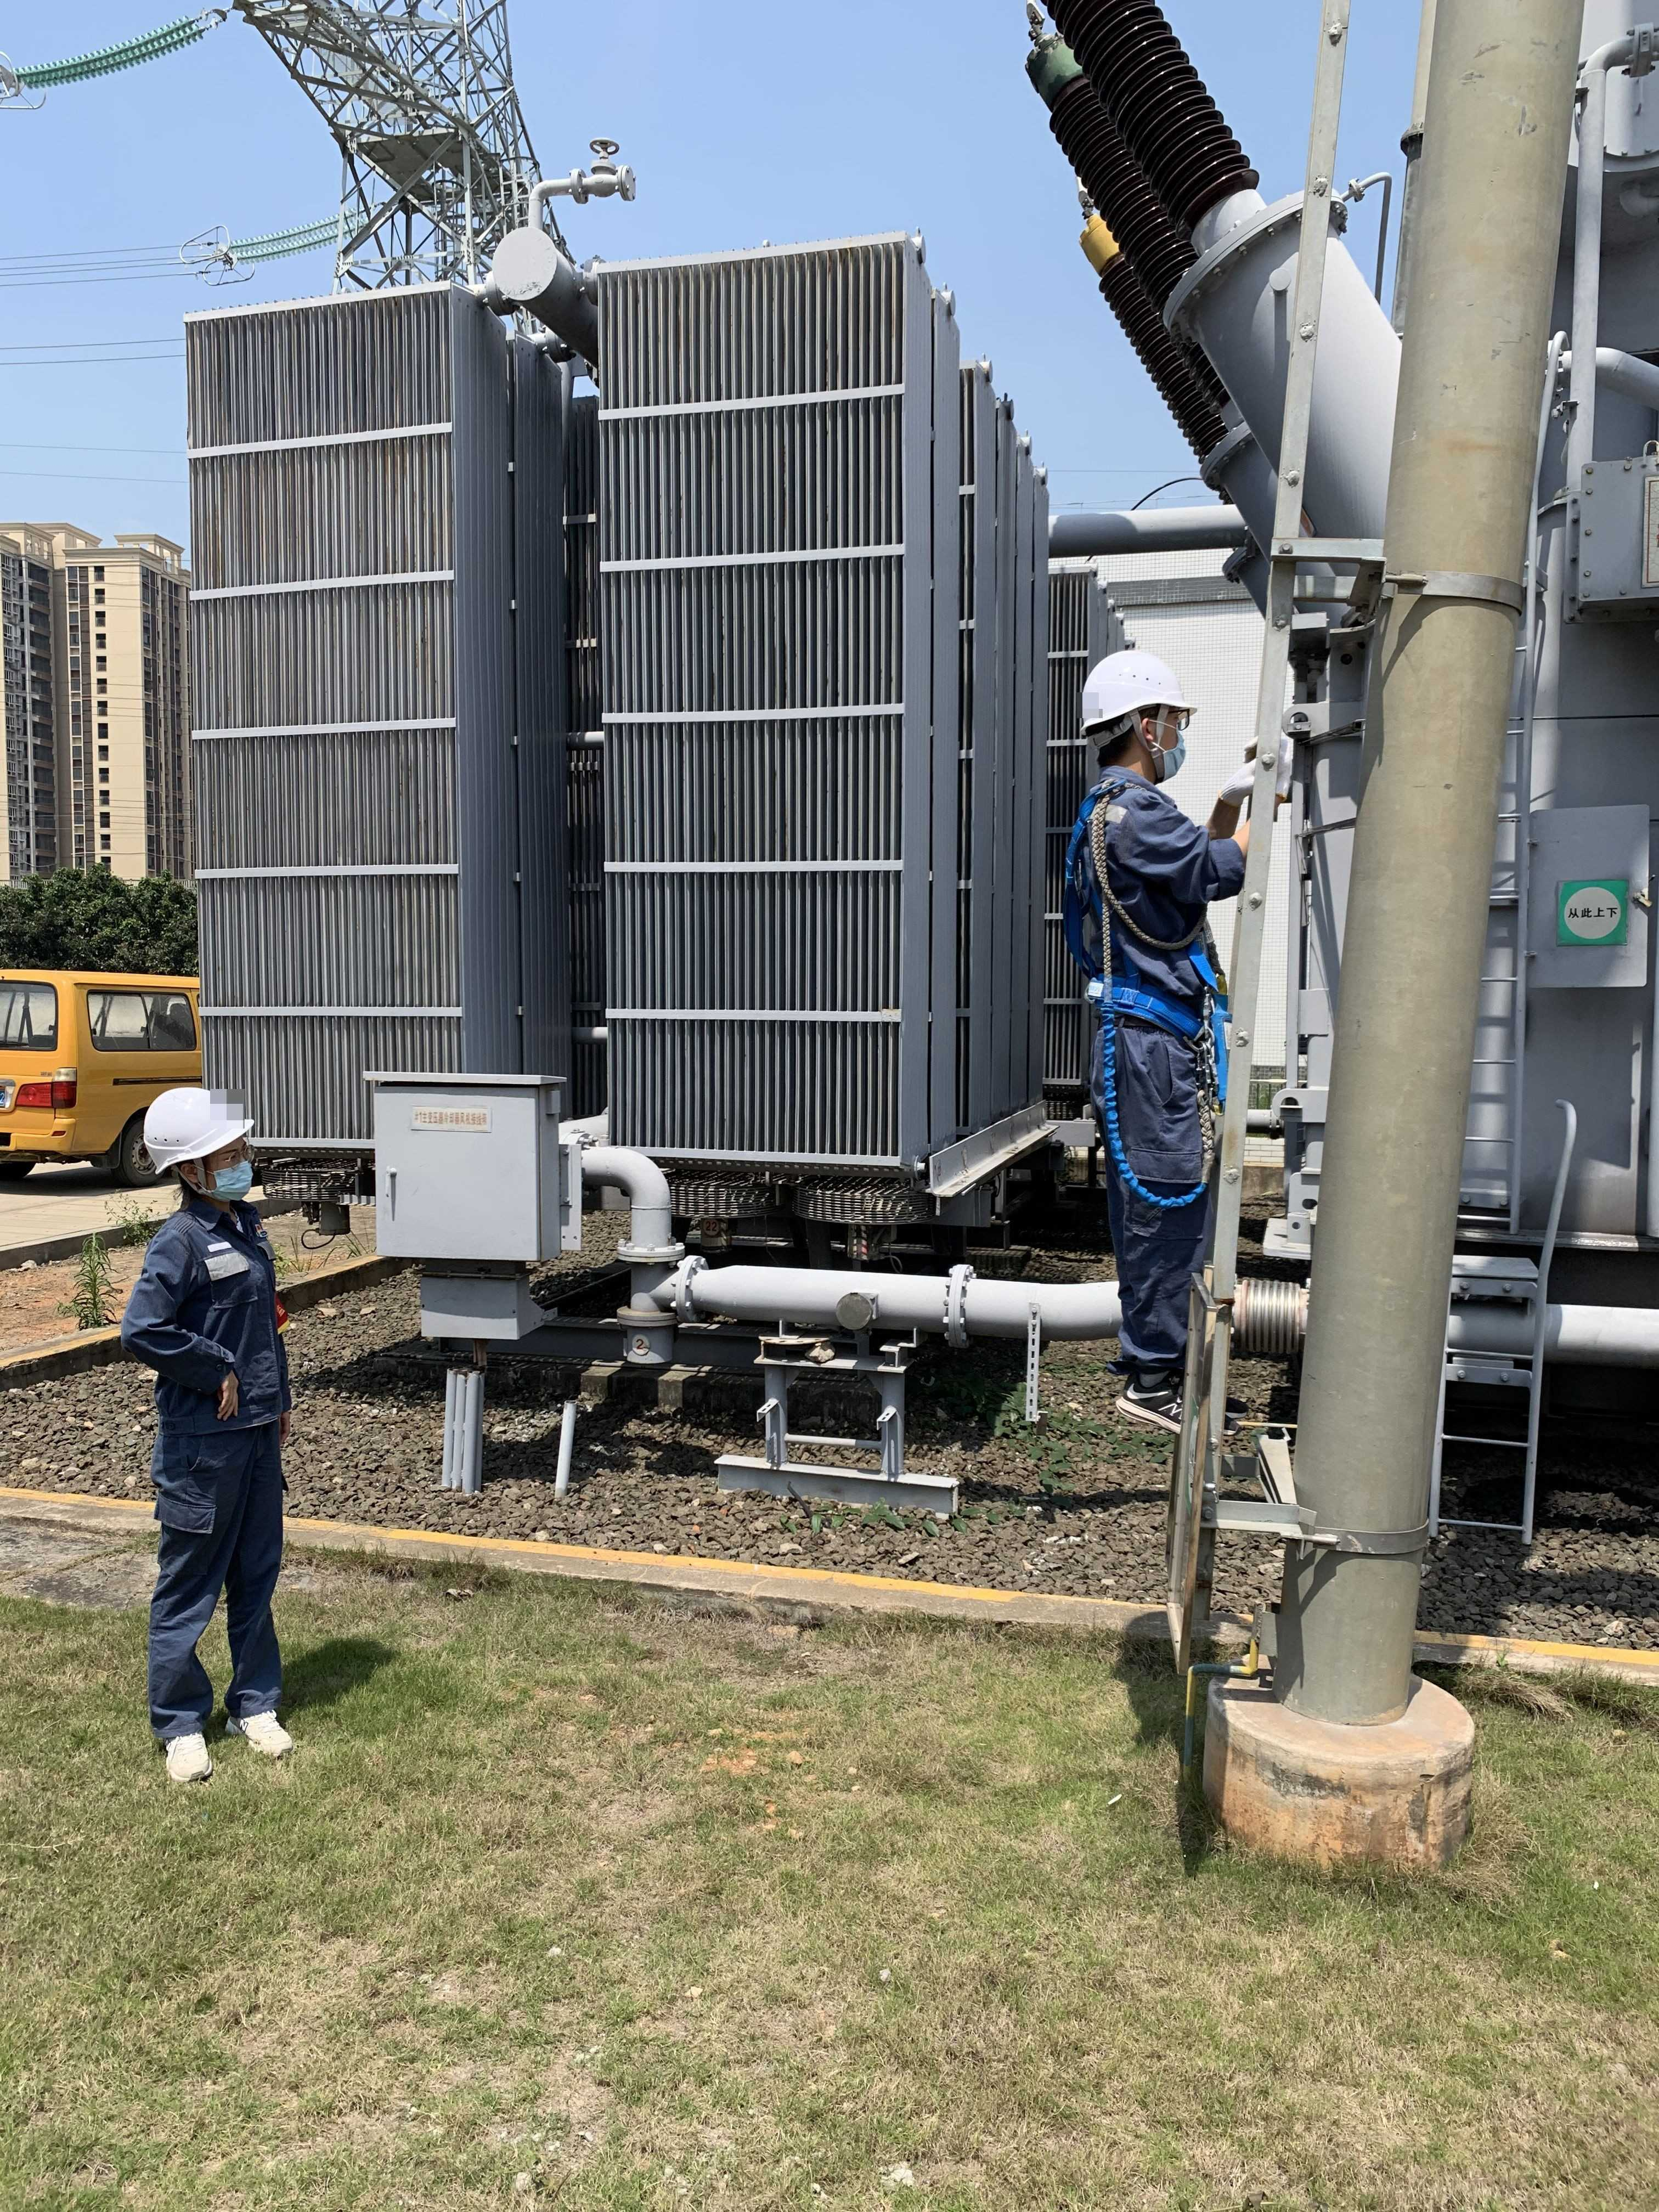downsuit: (136, 1446, 296, 1723), (1098, 1026, 1220, 1378)
upsuit: (117, 1202, 301, 1426), (1068, 777, 1236, 1012)
wrongtop: (1206, 805, 1253, 871)
